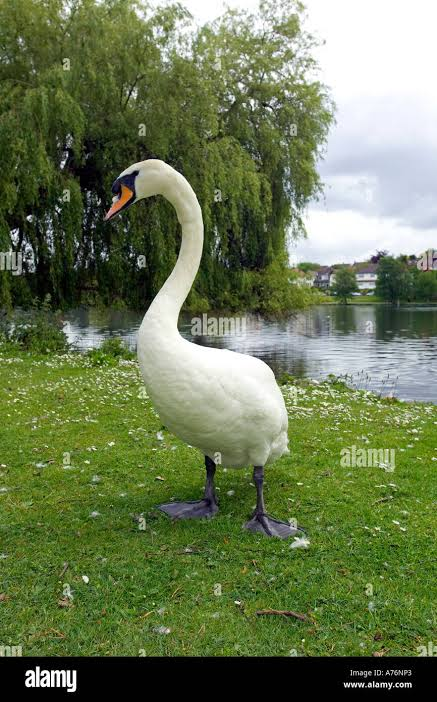swan: (103, 159, 310, 541)
